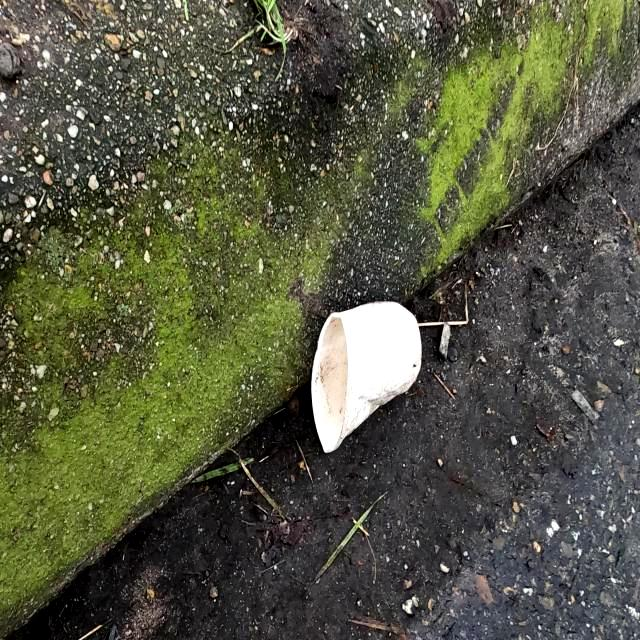Coffee Cup: (308, 295, 426, 455)
